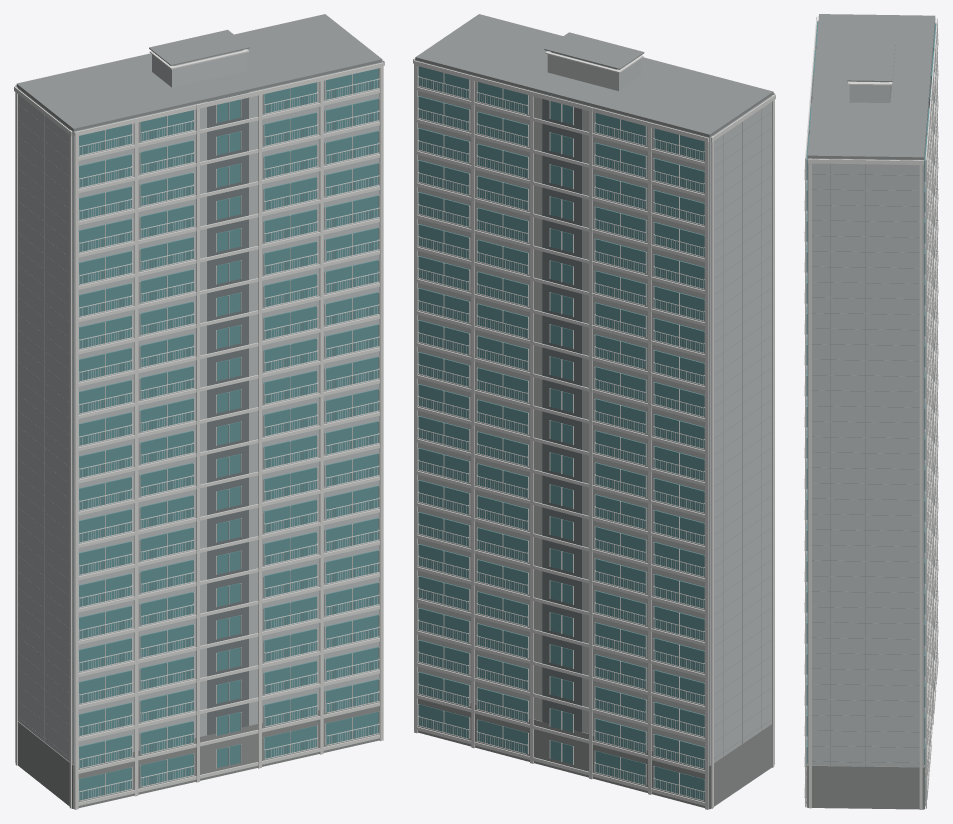
Rendered from bespoke-jamsil-ricenz-233.glb.
3 views of the same model, side by side, from view 1: azimuth 30°, elevation 25°; view 2: azimuth 150°, elevation 25°; view 3: azimuth 270°, elevation 25° (orthographic). The views are drawn at different scales.
Visible parts, largest first — view 1: Ricenz233_editable_Ricenz233_turquoise_balcony_glazing, Ricenz233_editable_Ricenz233_light_grey_solid_wall, Ricenz233_white_exact_chunk_0, Ricenz233_white_exact_chunk_1, Ricenz233_editable_Ricenz233_modest_grey_flat_roof_caps, Ricenz233_editable_Ricenz233_narrow_charcoal_service_strips, Ricenz233_editable_Ricenz233_muted_ground_wall, Ricenz233_white_exact_chunk_2; view 2: Ricenz233_editable_Ricenz233_turquoise_balcony_glazing, Ricenz233_editable_Ricenz233_light_grey_solid_wall, Ricenz233_white_exact_chunk_2, Ricenz233_white_exact_chunk_1, Ricenz233_editable_Ricenz233_modest_grey_flat_roof_caps, Ricenz233_editable_Ricenz233_narrow_charcoal_service_strips, Ricenz233_editable_Ricenz233_muted_ground_wall, Ricenz233_white_exact_chunk_0; view 3: Ricenz233_editable_Ricenz233_light_grey_solid_wall, Ricenz233_editable_Ricenz233_modest_grey_flat_roof_caps, Ricenz233_white_exact_chunk_1, Ricenz233_white_exact_chunk_2, Ricenz233_editable_Ricenz233_muted_ground_wall, Ricenz233_editable_Ricenz233_turquoise_balcony_glazing.
Part boxes in pixels (left/top/right/bottom): Ricenz233_editable_Ricenz233_turquoise_balcony_glazing: left=78, top=68, right=378, bottom=800; Ricenz233_editable_Ricenz233_light_grey_solid_wall: left=16, top=50, right=382, bottom=764; Ricenz233_white_exact_chunk_0: left=14, top=86, right=320, bottom=808; Ricenz233_white_exact_chunk_1: left=74, top=59, right=384, bottom=809; Ricenz233_editable_Ricenz233_modest_grey_flat_roof_caps: left=16, top=14, right=382, bottom=757; Ricenz233_editable_Ricenz233_narrow_charcoal_service_strips: left=207, top=92, right=248, bottom=734; Ricenz233_editable_Ricenz233_muted_ground_wall: left=18, top=701, right=379, bottom=809; Ricenz233_white_exact_chunk_2: left=15, top=49, right=249, bottom=762; Ricenz233_editable_Ricenz233_turquoise_balcony_glazing: left=418, top=66, right=704, bottom=800; Ricenz233_editable_Ricenz233_light_grey_solid_wall: left=415, top=52, right=773, bottom=765; Ricenz233_white_exact_chunk_2: left=414, top=51, right=708, bottom=809; Ricenz233_white_exact_chunk_1: left=413, top=58, right=774, bottom=764; Ricenz233_editable_Ricenz233_modest_grey_flat_roof_caps: left=415, top=14, right=773, bottom=758; Ricenz233_editable_Ricenz233_narrow_charcoal_service_strips: left=542, top=93, right=582, bottom=731; Ricenz233_editable_Ricenz233_muted_ground_wall: left=418, top=694, right=771, bottom=809; Ricenz233_white_exact_chunk_0: left=711, top=94, right=775, bottom=808; Ricenz233_editable_Ricenz233_light_grey_solid_wall: left=807, top=20, right=935, bottom=766; Ricenz233_editable_Ricenz233_modest_grey_flat_roof_caps: left=807, top=14, right=935, bottom=766; Ricenz233_white_exact_chunk_1: left=804, top=16, right=931, bottom=809; Ricenz233_white_exact_chunk_2: left=848, top=18, right=938, bottom=808; Ricenz233_editable_Ricenz233_muted_ground_wall: left=806, top=660, right=934, bottom=809; Ricenz233_editable_Ricenz233_turquoise_balcony_glazing: left=806, top=21, right=936, bottom=799.
Size of the model in its own units: 30.5 by 65.96 by 11.88.
